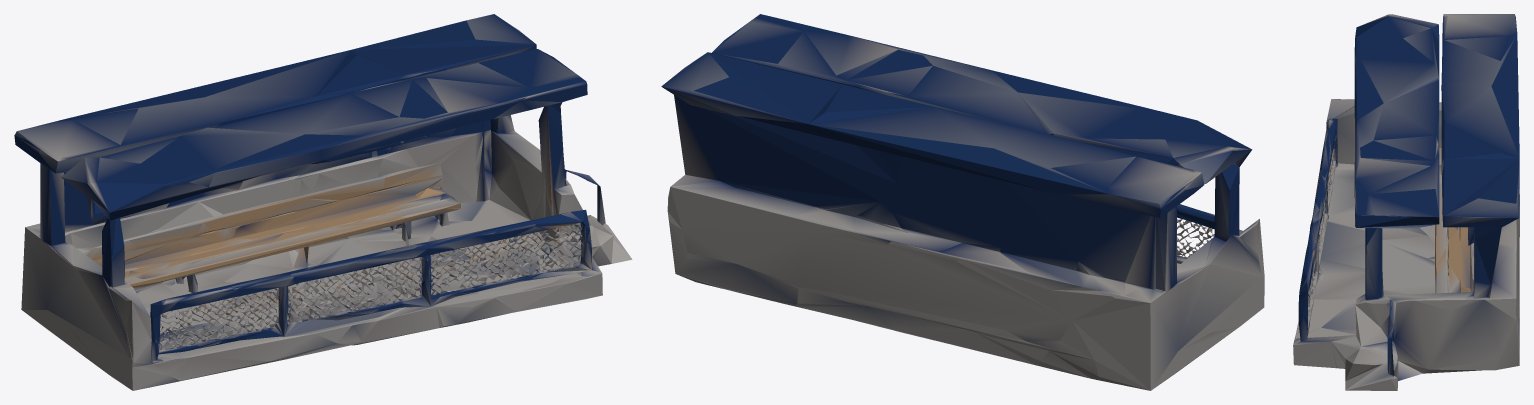
Rendered from dugout.glb.
The picture shows the model from 3 angles, left to right: view 1: azimuth 30°, elevation 25°; view 2: azimuth 150°, elevation 25°; view 3: azimuth 270°, elevation 25°; orthographic projection. The views are drawn at different scales.
Bounding box in the file's own units: 1.9 × 0.6435 × 0.8267.
